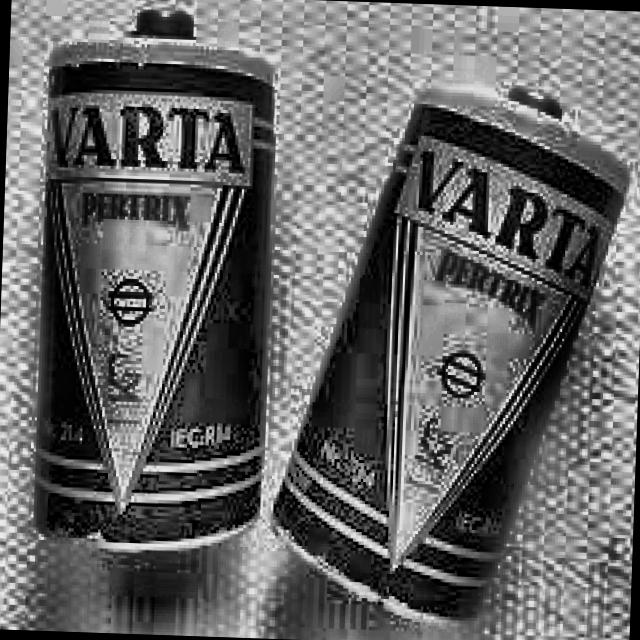Battery: (278, 84, 624, 628), (35, 9, 276, 540)
